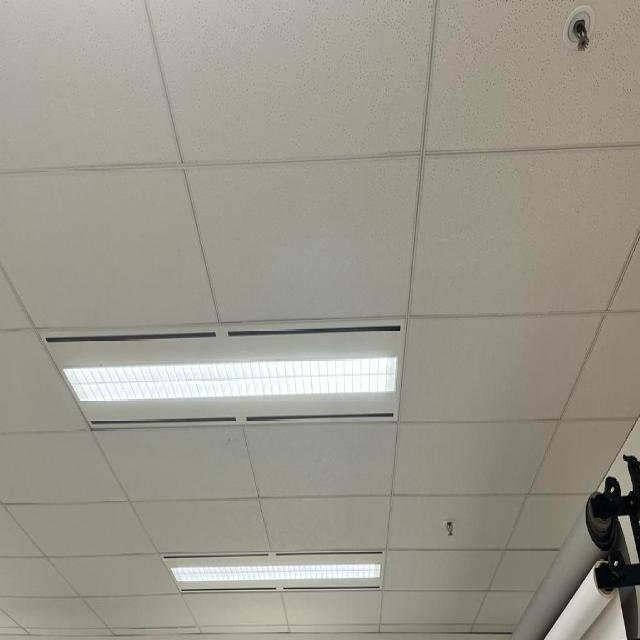Light-Opened: (37, 314, 410, 429), (162, 550, 386, 595)
